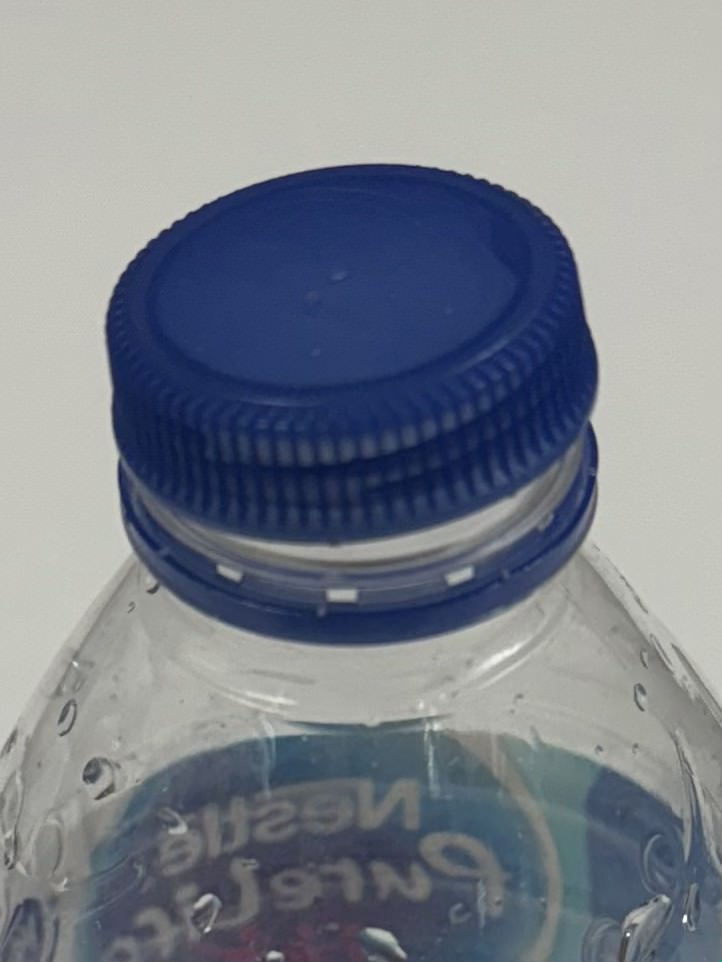half_cap: (100, 154, 606, 650)
